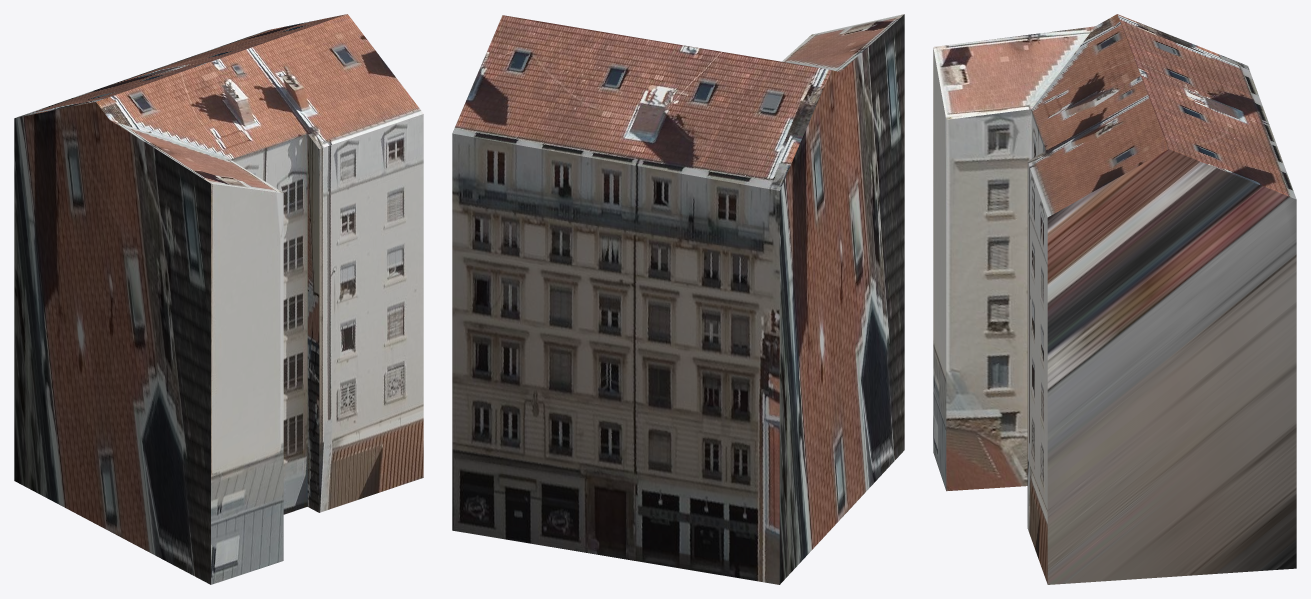
3 renders of one model, left to right at view 1: azimuth 30°, elevation 25°; view 2: azimuth 150°, elevation 25°; view 3: azimuth 270°, elevation 25°, orthographic. The views are drawn at different scales.
Visible parts, largest first — view 1: Z_UP; view 2: Z_UP; view 3: Z_UP.
Boxes of the visible parts, box(x1,y1,x2,y2) form: Z_UP: box(14, 14, 423, 584); Z_UP: box(452, 14, 904, 584); Z_UP: box(933, 14, 1296, 584).
Size of the model in its own units: 19.76 by 25.78 by 19.84.
Materials: 2 (1 with a texture image).
